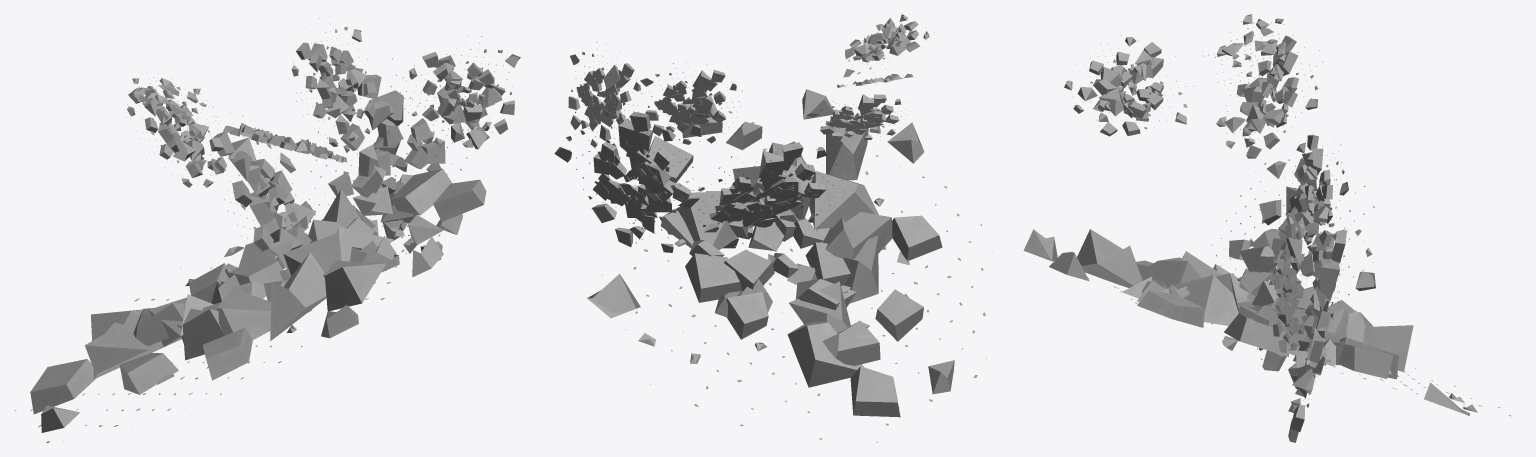
The model's file is Section 1 just rocks.fbx.
3 renders of one model, left to right at view 1: azimuth 30°, elevation 25°; view 2: azimuth 150°, elevation 25°; view 3: azimuth 270°, elevation 25°, orthographic. The views are drawn at different scales.
Visible parts, largest first — view 1: Rocks2; view 2: Rocks2; view 3: Rocks2.
Part boxes in pixels (x1=…): Rocks2: x1=15, y1=15, x2=520, y2=442; Rocks2: x1=554, y1=14, x2=994, y2=442; Rocks2: x1=1023, y1=14, x2=1511, y2=442.
Bounding box in the file's own units: 767 × 559 × 668.
